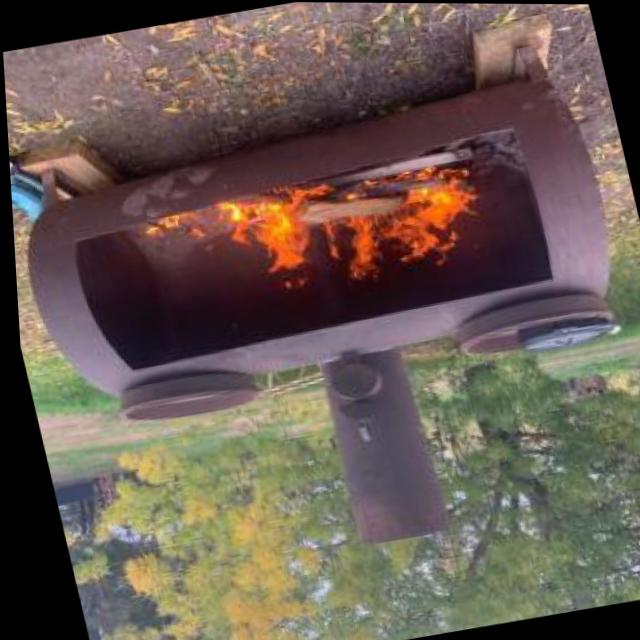Fire: (164, 137, 516, 307)
